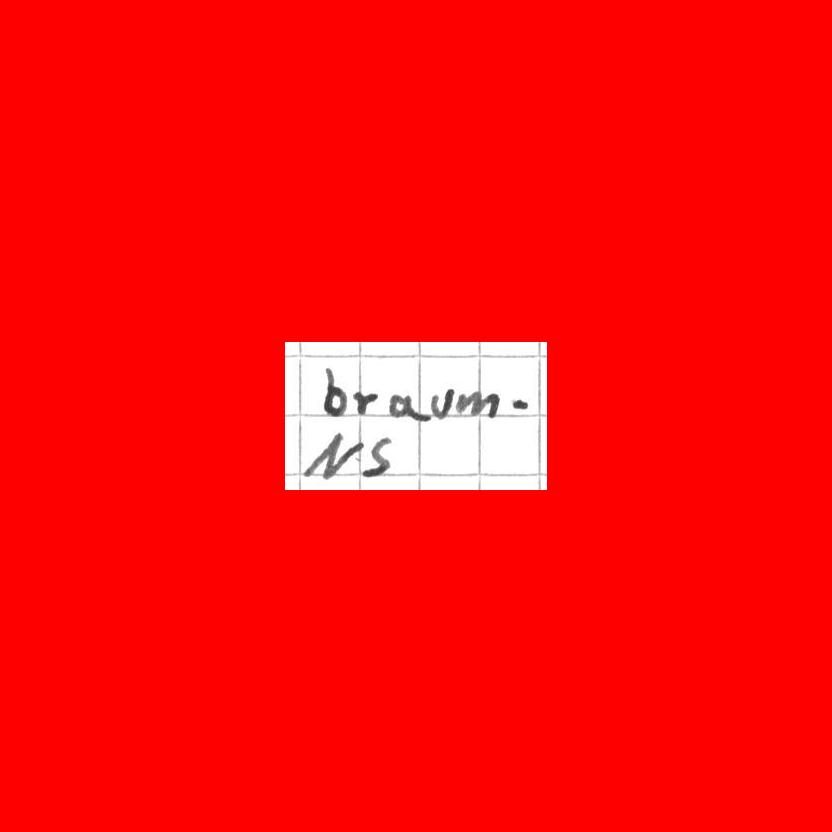Char: (304, 430, 363, 481), (358, 432, 395, 477), (320, 364, 350, 419), (456, 388, 502, 417), (387, 392, 427, 424), (429, 384, 457, 422), (351, 385, 380, 417), (507, 392, 537, 414)
